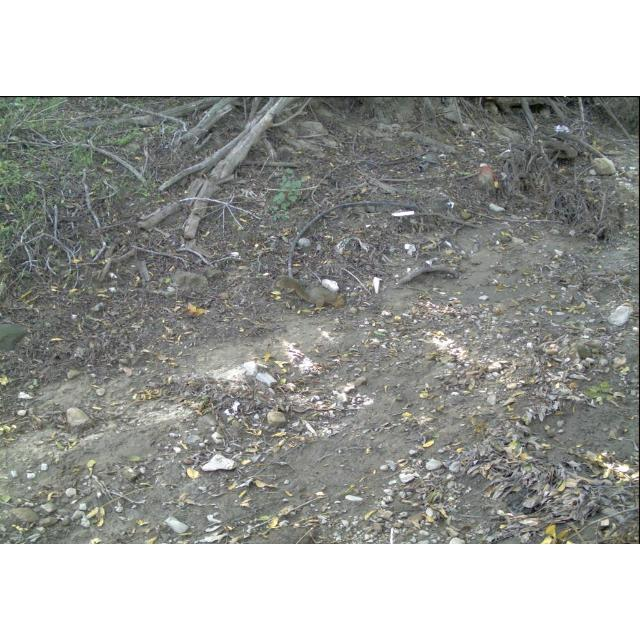animals: (274, 280, 348, 314)
